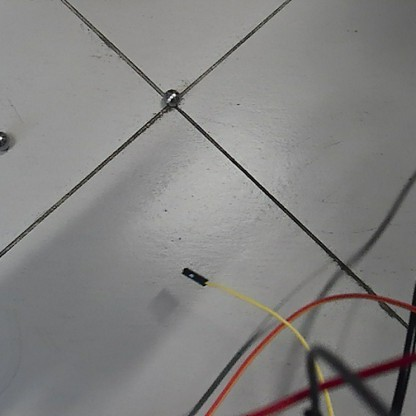ironball: (160, 87, 183, 107), (0, 126, 13, 153)
